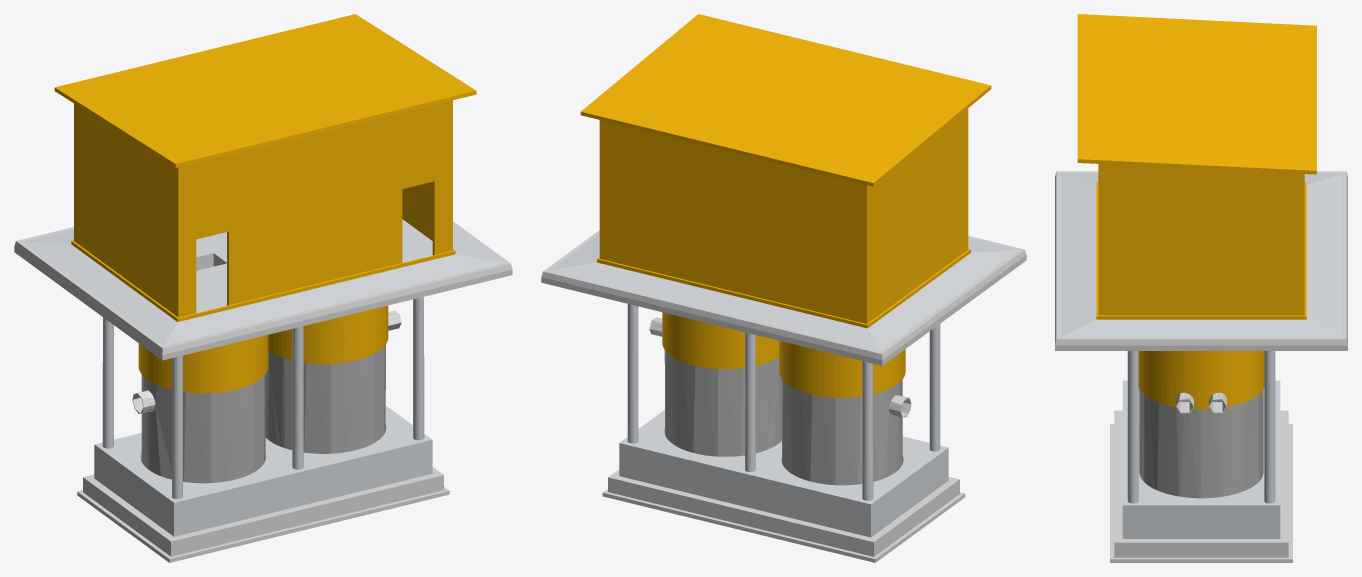
3 views of the same model, side by side, from view 1: azimuth 30°, elevation 25°; view 2: azimuth 150°, elevation 25°; view 3: azimuth 270°, elevation 25° (orthographic). The views are drawn at different scales.
Visible parts, largest first — view 1: 96e72086-911b-4f82-96b6-56c94d5f1536-0030e350, c8b3c261-f5b3-40ba-acab-9b1382179fa9-00319d4f, 2ffc1a31-0311-4427-a9f1-87491127c6dc-00313ce5, 2ffc1a31-0311-4427-a9f1-87491127c6dc-003147e1, 96e72086-911b-4f82-96b6-56c94d5f1536-0030e349, 1f1846cf-f4a0-44e9-8900-86b9aef4800a-00319d93, 1f1846cf-f4a0-44e9-8900-86b9aef4800a-00319d95, 1f1846cf-f4a0-44e9-8900-86b9aef4800a-00319d87, 1f1846cf-f4a0-44e9-8900-86b9aef4800a-00319d89, 1f1846cf-f4a0-44e9-8900-86b9aef4800a-00319db9, c8b3c261-f5b3-40ba-acab-9b1382179fa9-00319d59, 1f1846cf-f4a0-44e9-8900-86b9aef4800a-00319dc3 (+25 smaller); view 2: 96e72086-911b-4f82-96b6-56c94d5f1536-0030e350, c8b3c261-f5b3-40ba-acab-9b1382179fa9-00319d4f, 2ffc1a31-0311-4427-a9f1-87491127c6dc-00313ce5, 2ffc1a31-0311-4427-a9f1-87491127c6dc-003147e1, 96e72086-911b-4f82-96b6-56c94d5f1536-0030e349, 1f1846cf-f4a0-44e9-8900-86b9aef4800a-00319d9b, 1f1846cf-f4a0-44e9-8900-86b9aef4800a-00319d8f, 1f1846cf-f4a0-44e9-8900-86b9aef4800a-00319d8d, 1f1846cf-f4a0-44e9-8900-86b9aef4800a-00319d99, 1f1846cf-f4a0-44e9-8900-86b9aef4800a-00319db9, 1f1846cf-f4a0-44e9-8900-86b9aef4800a-00319d83, 1f1846cf-f4a0-44e9-8900-86b9aef4800a-00319d81 (+23 smaller); view 3: c8b3c261-f5b3-40ba-acab-9b1382179fa9-00319d4f, 2ffc1a31-0311-4427-a9f1-87491127c6dc-003147e1, 1f1846cf-f4a0-44e9-8900-86b9aef4800a-00319d97, 1f1846cf-f4a0-44e9-8900-86b9aef4800a-00319d8b, 96e72086-911b-4f82-96b6-56c94d5f1536-0030e350, 1f1846cf-f4a0-44e9-8900-86b9aef4800a-00319d7f, 1f1846cf-f4a0-44e9-8900-86b9aef4800a-00319dc7, 96e72086-911b-4f82-96b6-56c94d5f1536-0030e349, 1f1846cf-f4a0-44e9-8900-86b9aef4800a-00319dc1, 1f1846cf-f4a0-44e9-8900-86b9aef4800a-00319db9, 1f1846cf-f4a0-44e9-8900-86b9aef4800a-00319dbf, 1f1846cf-f4a0-44e9-8900-86b9aef4800a-00319dc3 (+15 smaller).
Part boxes in pixels (box(x1,y1,x2,y2)): 96e72086-911b-4f82-96b6-56c94d5f1536-0030e350: box(94, 405, 432, 536); c8b3c261-f5b3-40ba-acab-9b1382179fa9-00319d4f: box(23, 225, 503, 345); 2ffc1a31-0311-4427-a9f1-87491127c6dc-00313ce5: box(141, 374, 265, 483); 2ffc1a31-0311-4427-a9f1-87491127c6dc-003147e1: box(265, 344, 385, 453); 96e72086-911b-4f82-96b6-56c94d5f1536-0030e349: box(83, 467, 443, 556); 1f1846cf-f4a0-44e9-8900-86b9aef4800a-00319d93: box(176, 151, 315, 229); 1f1846cf-f4a0-44e9-8900-86b9aef4800a-00319d95: box(315, 117, 452, 195); 1f1846cf-f4a0-44e9-8900-86b9aef4800a-00319d87: box(176, 196, 315, 274); 1f1846cf-f4a0-44e9-8900-86b9aef4800a-00319d89: box(315, 162, 452, 240); 1f1846cf-f4a0-44e9-8900-86b9aef4800a-00319db9: box(54, 77, 218, 167); c8b3c261-f5b3-40ba-acab-9b1382179fa9-00319d59: box(162, 263, 512, 360); 1f1846cf-f4a0-44e9-8900-86b9aef4800a-00319dc3: box(227, 35, 390, 125); 96e72086-911b-4f82-96b6-56c94d5f1536-0030e350: box(619, 410, 948, 537); c8b3c261-f5b3-40ba-acab-9b1382179fa9-00319d4f: box(550, 234, 1017, 351); 2ffc1a31-0311-4427-a9f1-87491127c6dc-00313ce5: box(782, 379, 902, 485); 2ffc1a31-0311-4427-a9f1-87491127c6dc-003147e1: box(664, 350, 781, 456); 96e72086-911b-4f82-96b6-56c94d5f1536-0030e349: box(608, 469, 959, 556); 1f1846cf-f4a0-44e9-8900-86b9aef4800a-00319d9b: box(733, 162, 868, 238); 1f1846cf-f4a0-44e9-8900-86b9aef4800a-00319d8f: box(733, 206, 868, 281); 1f1846cf-f4a0-44e9-8900-86b9aef4800a-00319d8d: box(599, 173, 733, 249); 1f1846cf-f4a0-44e9-8900-86b9aef4800a-00319d99: box(599, 129, 733, 205); 1f1846cf-f4a0-44e9-8900-86b9aef4800a-00319db9: box(831, 75, 991, 186); 1f1846cf-f4a0-44e9-8900-86b9aef4800a-00319d83: box(733, 249, 868, 323); 1f1846cf-f4a0-44e9-8900-86b9aef4800a-00319d81: box(599, 217, 733, 291); c8b3c261-f5b3-40ba-acab-9b1382179fa9-00319d4f: box(1061, 173, 1341, 337); 2ffc1a31-0311-4427-a9f1-87491127c6dc-003147e1: box(1139, 389, 1263, 498); 1f1846cf-f4a0-44e9-8900-86b9aef4800a-00319d97: box(1102, 183, 1300, 228); 1f1846cf-f4a0-44e9-8900-86b9aef4800a-00319d8b: box(1102, 228, 1300, 272); 96e72086-911b-4f82-96b6-56c94d5f1536-0030e350: box(1122, 380, 1280, 538); 1f1846cf-f4a0-44e9-8900-86b9aef4800a-00319d7f: box(1102, 272, 1300, 315); 1f1846cf-f4a0-44e9-8900-86b9aef4800a-00319dc7: box(1077, 138, 1316, 174); 96e72086-911b-4f82-96b6-56c94d5f1536-0030e349: box(1114, 410, 1288, 557); 1f1846cf-f4a0-44e9-8900-86b9aef4800a-00319dc1: box(1077, 76, 1316, 108); 1f1846cf-f4a0-44e9-8900-86b9aef4800a-00319db9: box(1077, 14, 1316, 46); 1f1846cf-f4a0-44e9-8900-86b9aef4800a-00319dbf: box(1077, 55, 1316, 87); 1f1846cf-f4a0-44e9-8900-86b9aef4800a-00319dc3: box(1077, 97, 1316, 129).
Size of the model in its own units: 9.7 by 10.94 by 7.1.
